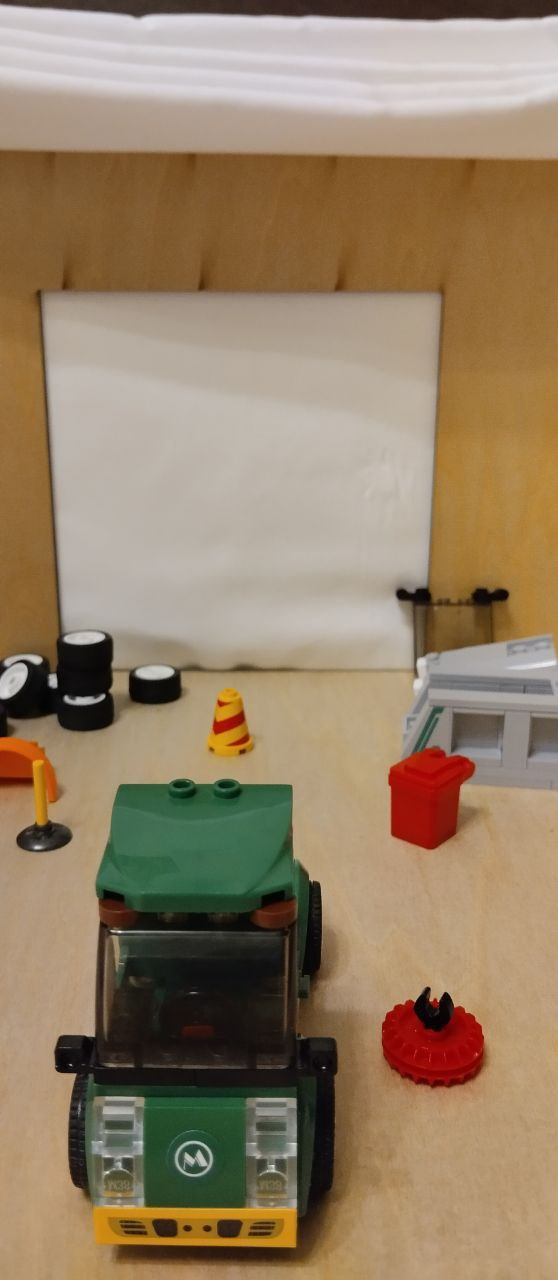Cone: (207, 685, 259, 758)
Object Red: (383, 745, 486, 856)
Truck: (47, 779, 354, 1256)
